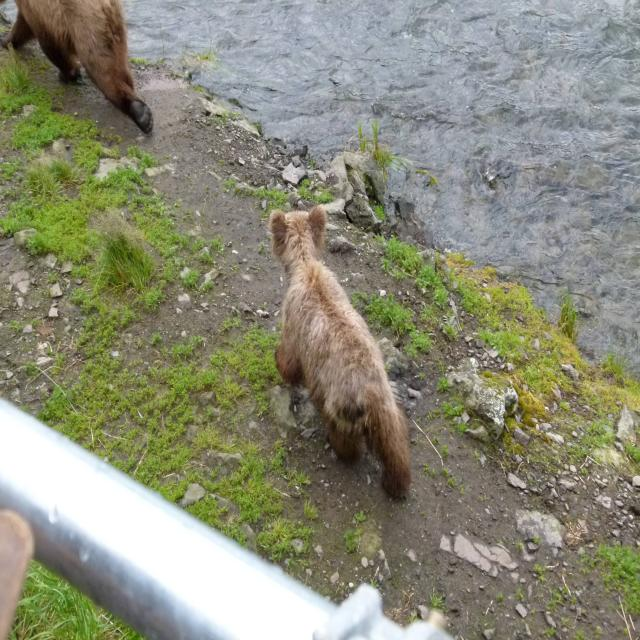bear face: (270, 208, 414, 503), (12, 0, 150, 127)
